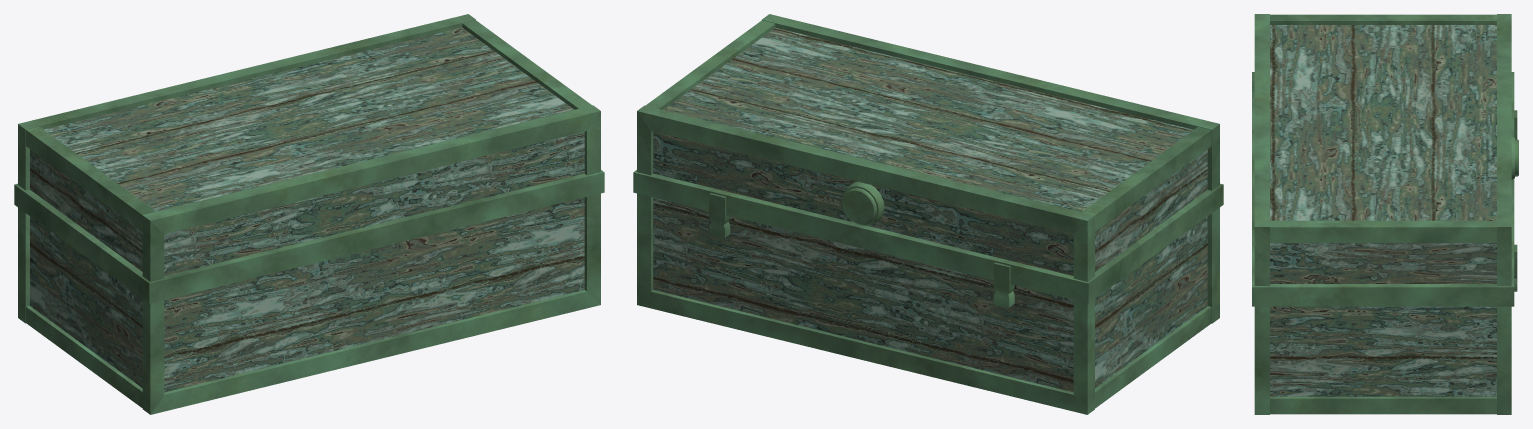
File: Trunk1.FBX
3 renders of one model, left to right at view 1: azimuth 30°, elevation 25°; view 2: azimuth 150°, elevation 25°; view 3: azimuth 270°, elevation 25°, orthographic. The views are drawn at different scales.
Visible parts, largest first — view 1: Box037; view 2: Box037; view 3: Box037.
Boxes of the visible parts, box(x1,y1,x2,y2) form: Box037: box(14, 14, 604, 414); Box037: box(633, 14, 1223, 414); Box037: box(1252, 14, 1518, 414).
Bounding box in the file's own units: 103 × 41.95 × 53.96.
